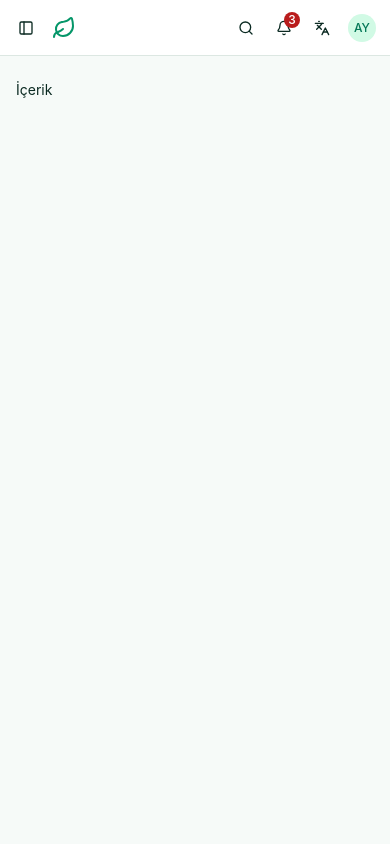
Test: AppShell › the sidebar toggle opens a dialog
This screenshot has width=390, height=844.
Click the button named "Menüyü Aç/Kapat".
click(26, 28)  # box [8, 10, 44, 46]
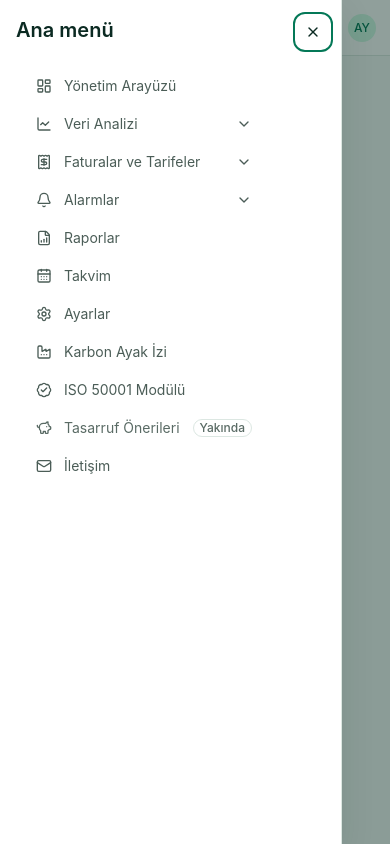
Now the dialog "Ana menü" is shown
